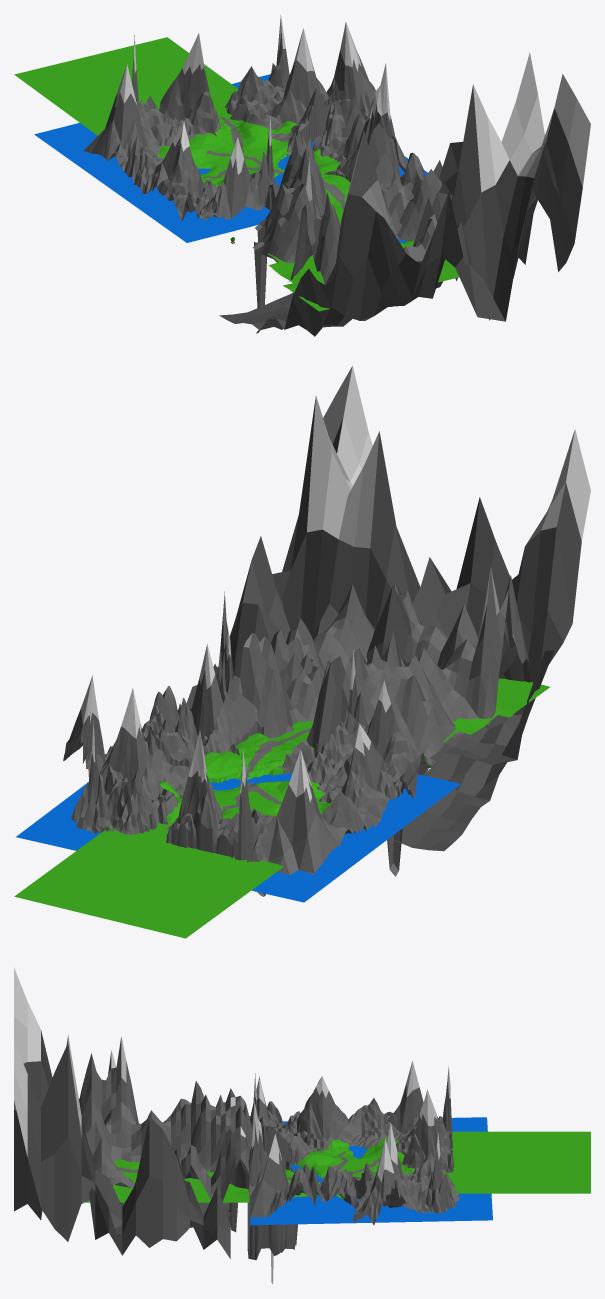
File: Landscape.fbx
3 renders of one model, top to bottom at view 1: azimuth 30°, elevation 25°; view 2: azimuth 150°, elevation 25°; view 3: azimuth 270°, elevation 25°, orthographic. The views are drawn at different scales.
Visible parts, largest first — view 1: Rocks, Plane.003, Plane.001, Plane; view 2: Rocks, Plane.003, Plane.001, Plane; view 3: Rocks, Plane.003, Plane.001, Plane.
Part boxes in pixels (box(x1,y1,x2,y2)): Rocks: box(83, 15, 442, 333); Plane.003: box(219, 52, 590, 336); Plane.001: box(14, 37, 459, 311); Plane: box(34, 74, 427, 242); Rocks: box(63, 567, 530, 896); Plane.003: box(186, 366, 590, 851); Plane.001: box(14, 678, 549, 938); Plane: box(16, 773, 460, 902); Rocks: box(79, 1036, 459, 1284); Plane.003: box(14, 967, 230, 1258); Plane.001: box(82, 1131, 590, 1202); Plane: box(249, 1117, 492, 1225).
Size of the model in its own units: 36598 by 41334 by 77997.
